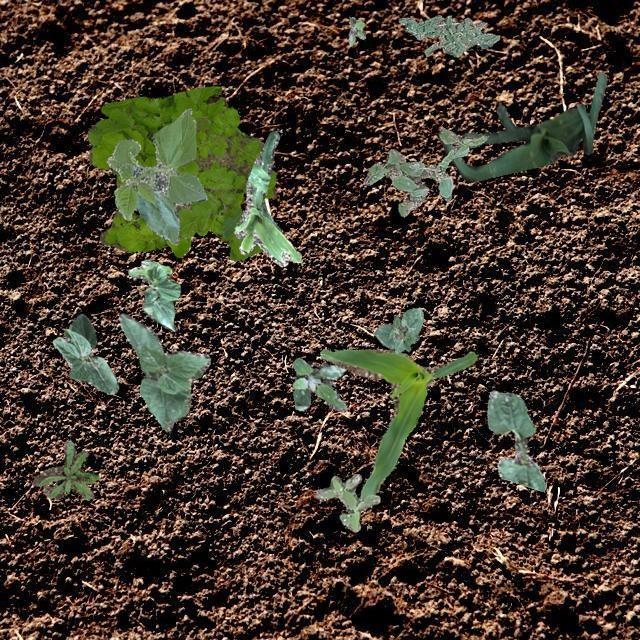crop: (320, 348, 476, 498), (442, 70, 606, 180), (106, 108, 206, 244), (118, 312, 210, 430), (233, 130, 300, 266), (486, 388, 544, 492), (51, 312, 118, 393), (128, 258, 180, 329), (373, 306, 422, 352)
weed: (87, 84, 276, 256), (174, 106, 274, 260), (364, 127, 486, 215), (398, 14, 498, 56), (32, 438, 98, 498), (314, 472, 378, 530), (292, 356, 346, 411), (348, 16, 364, 44)
